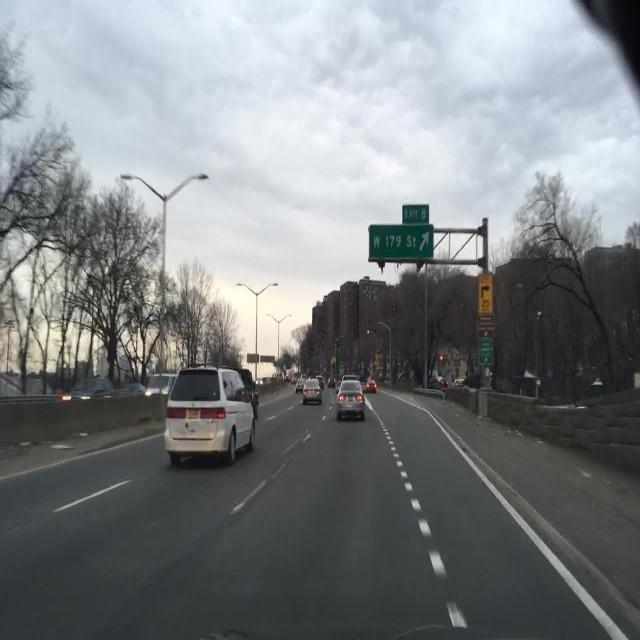normal: (162, 367, 259, 469), (336, 380, 368, 422), (299, 376, 322, 402), (362, 379, 377, 393)
